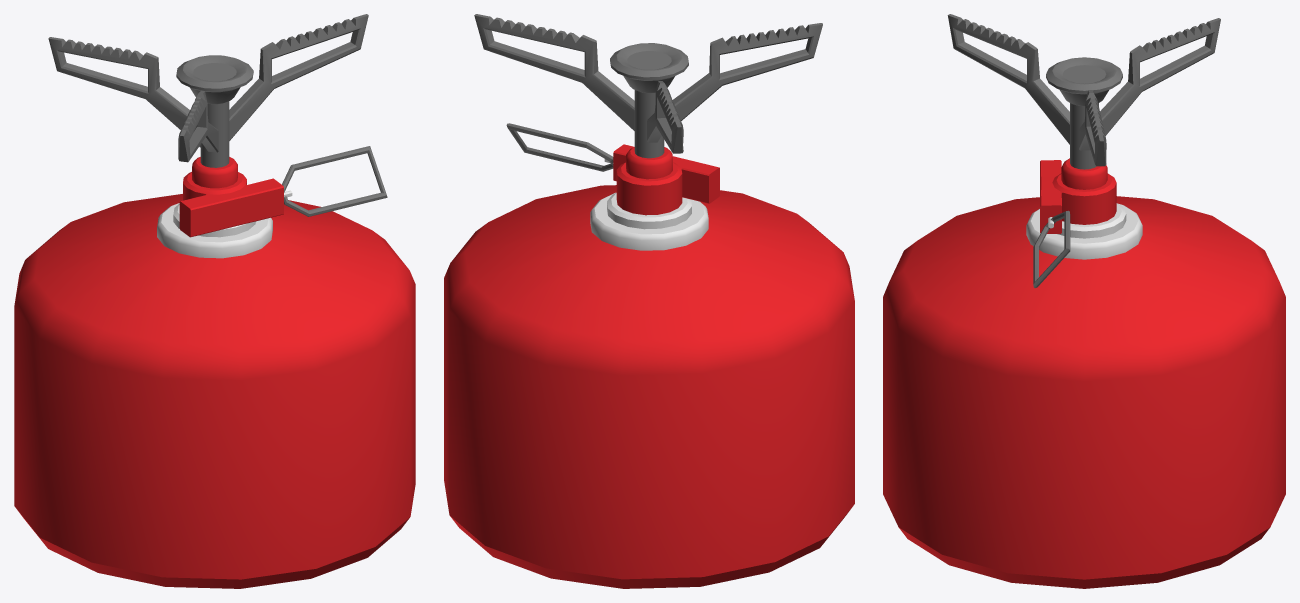
The model's file is CampStove.fbx.
The picture shows the model from 3 angles, left to right: view 1: azimuth 30°, elevation 25°; view 2: azimuth 150°, elevation 25°; view 3: azimuth 270°, elevation 25°; orthographic projection. The views are drawn at different scales.
Parts seen in each view (by area): view 1: Cylinder.007; view 2: Cylinder.007; view 3: Cylinder.007.
Part boxes in pixels (left/top/right/bottom): Cylinder.007: left=14, top=14, right=415, bottom=588; Cylinder.007: left=444, top=14, right=854, bottom=588; Cylinder.007: left=883, top=14, right=1285, bottom=588.
Bounding box in the file's own units: 200 × 247 × 200.
